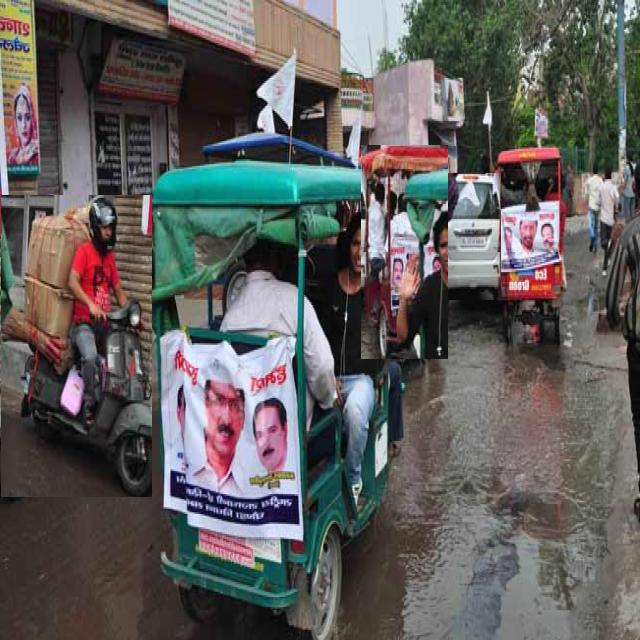autorickshaw: (139, 156, 412, 639), (361, 146, 448, 359), (485, 148, 566, 344)
car: (443, 173, 500, 300)
motorcycle: (1, 196, 151, 497)
